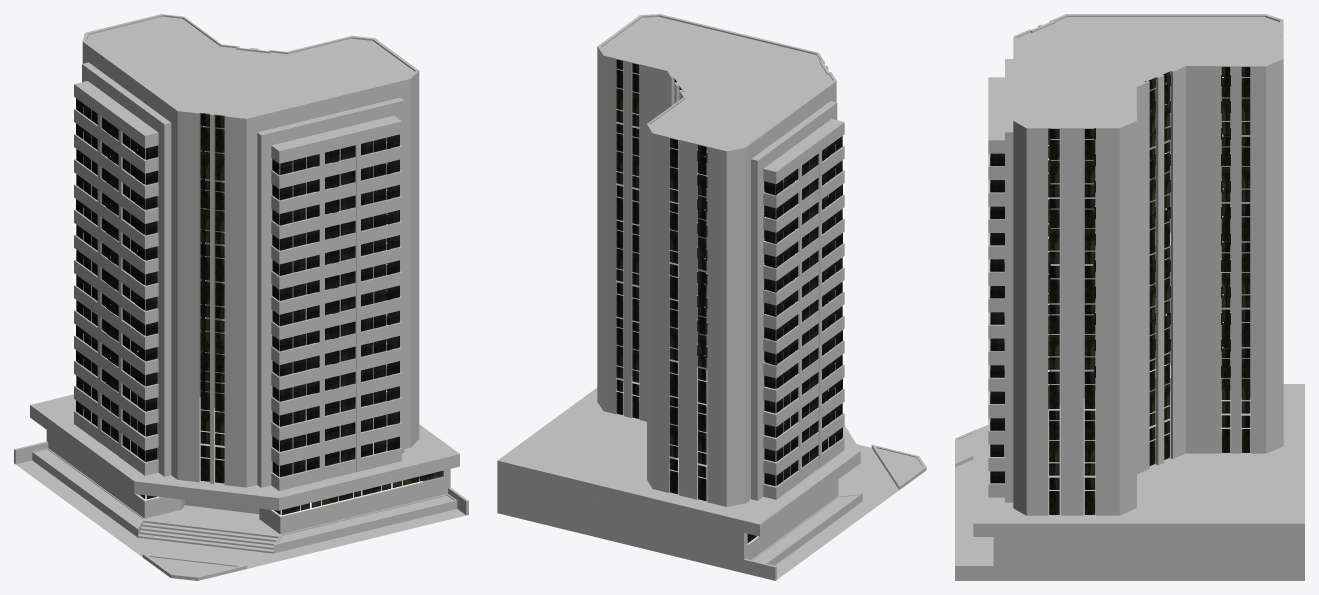
The picture shows the model from 3 angles, left to right: view 1: azimuth 30°, elevation 25°; view 2: azimuth 150°, elevation 25°; view 3: azimuth 270°, elevation 25°; orthographic projection. The views are drawn at different scales.
Parts seen in each view (by area): view 1: EC-010; view 2: EC-010; view 3: EC-010.
Part boxes in pixels (x1,y1,x2,y2): EC-010: (14, 14, 468, 580); EC-010: (497, 14, 926, 580); EC-010: (955, 14, 1304, 580).
Size of what is drawn, in the model's own units: 36 by 50.5 by 36.
